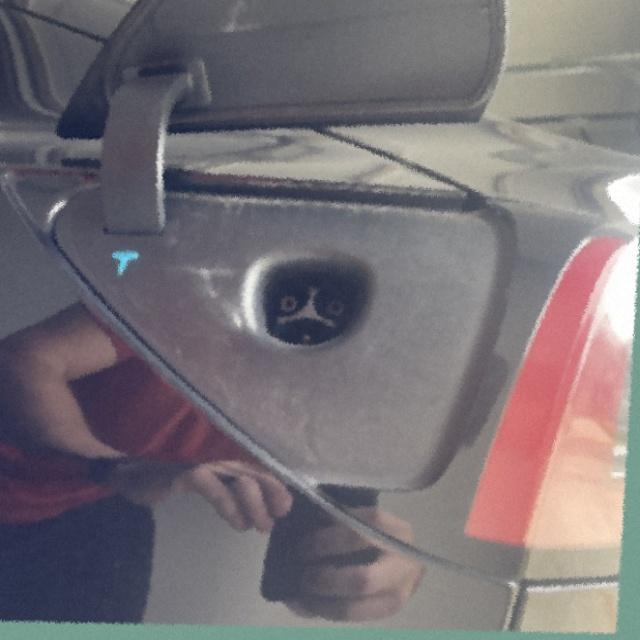Tesla Model-S-: (236, 238, 386, 374)
